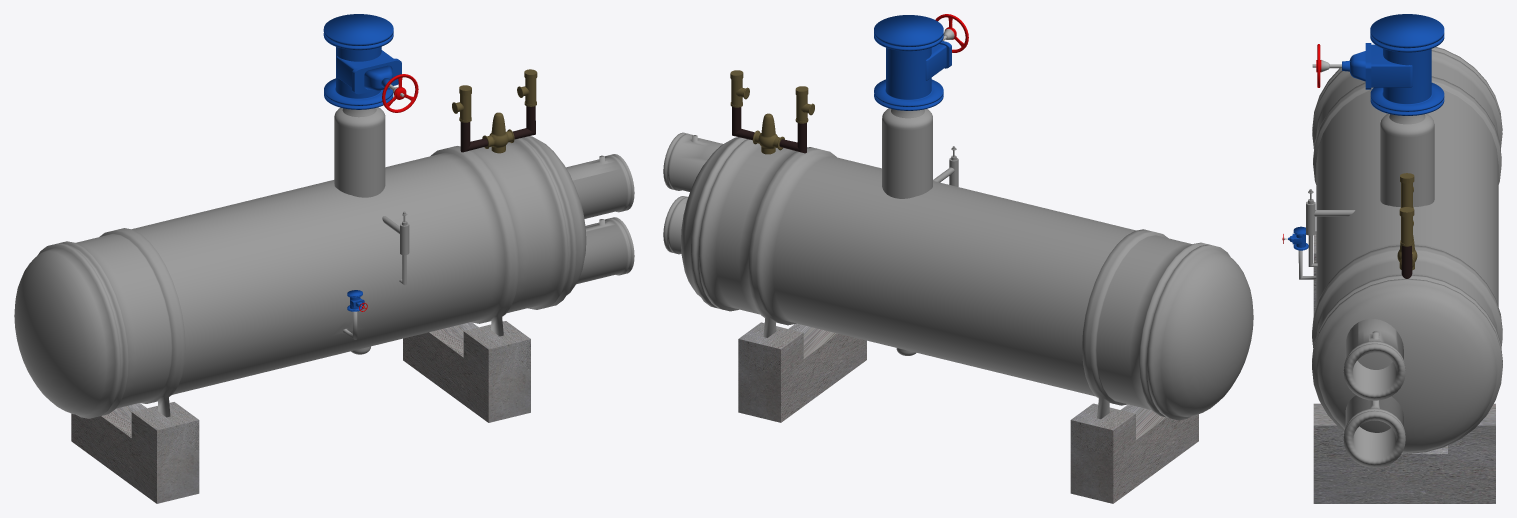
Rendered from испар.fbx.
The picture shows the model from 3 angles, left to right: view 1: azimuth 30°, elevation 25°; view 2: azimuth 150°, elevation 25°; view 3: azimuth 270°, elevation 25°; orthographic projection. The views are drawn at different scales.
Visible parts, largest first — view 1: Sphere.019, Cube.040, Cube.041, Sphere.020, Cylinder, Cylinder.063, Cylinder.064, Cube.001, Sphere.022; view 2: Sphere.019, Cube.040, Cube.041, Cylinder, Sphere.020, Cylinder.063, Cylinder.064, Sphere.022; view 3: Sphere.019, Cube.040, Cylinder, Sphere.020, Cylinder.063, Cylinder.064, Cube, Cylinder.068, Sphere.024, Sphere.023, Cube.002, Cylinder.070 (+3 smaller).
Part boxes in pixels (x1=…): Sphere.019: x1=14, y1=136, x2=586, y2=418; Cube.040: x1=403, y1=321, x2=530, y2=422; Cube.041: x1=71, y1=402, x2=199, y2=503; Sphere.020: x1=334, y1=107, x2=385, y2=197; Cylinder: x1=323, y1=14, x2=393, y2=109; Cylinder.063: x1=566, y1=154, x2=634, y2=218; Cylinder.064: x1=576, y1=217, x2=634, y2=284; Cube.001: x1=352, y1=58, x2=401, y2=94; Sphere.022: x1=482, y1=112, x2=514, y2=153; Sphere.019: x1=680, y1=137, x2=1253, y2=420; Cube.040: x1=738, y1=322, x2=866, y2=422; Cube.041: x1=1070, y1=403, x2=1198, y2=503; Cylinder: x1=874, y1=15, x2=943, y2=110; Sphere.020: x1=882, y1=108, x2=932, y2=198; Cylinder.063: x1=663, y1=132, x2=722, y2=191; Cylinder.064: x1=663, y1=196, x2=688, y2=254; Sphere.022: x1=752, y1=113, x2=784, y2=154; Sphere.019: x1=1298, y1=47, x2=1502, y2=453; Cube.040: x1=1313, y1=403, x2=1495, y2=503; Cylinder: x1=1370, y1=14, x2=1444, y2=115; Sphere.020: x1=1380, y1=113, x2=1434, y2=206; Cylinder.063: x1=1343, y1=319, x2=1405, y2=400; Cylinder.064: x1=1343, y1=395, x2=1405, y2=467; Cube: x1=1371, y1=44, x2=1412, y2=87; Cylinder.068: x1=1306, y1=189, x2=1355, y2=266; Sphere.024: x1=1399, y1=207, x2=1414, y2=246; Sphere.023: x1=1400, y1=173, x2=1414, y2=208; Cube.002: x1=1350, y1=51, x2=1365, y2=81; Cylinder.070: x1=1401, y1=245, x2=1412, y2=278.
Bounding box in the file's own units: 770 × 493 × 242.
10 materials, 3 textured.
